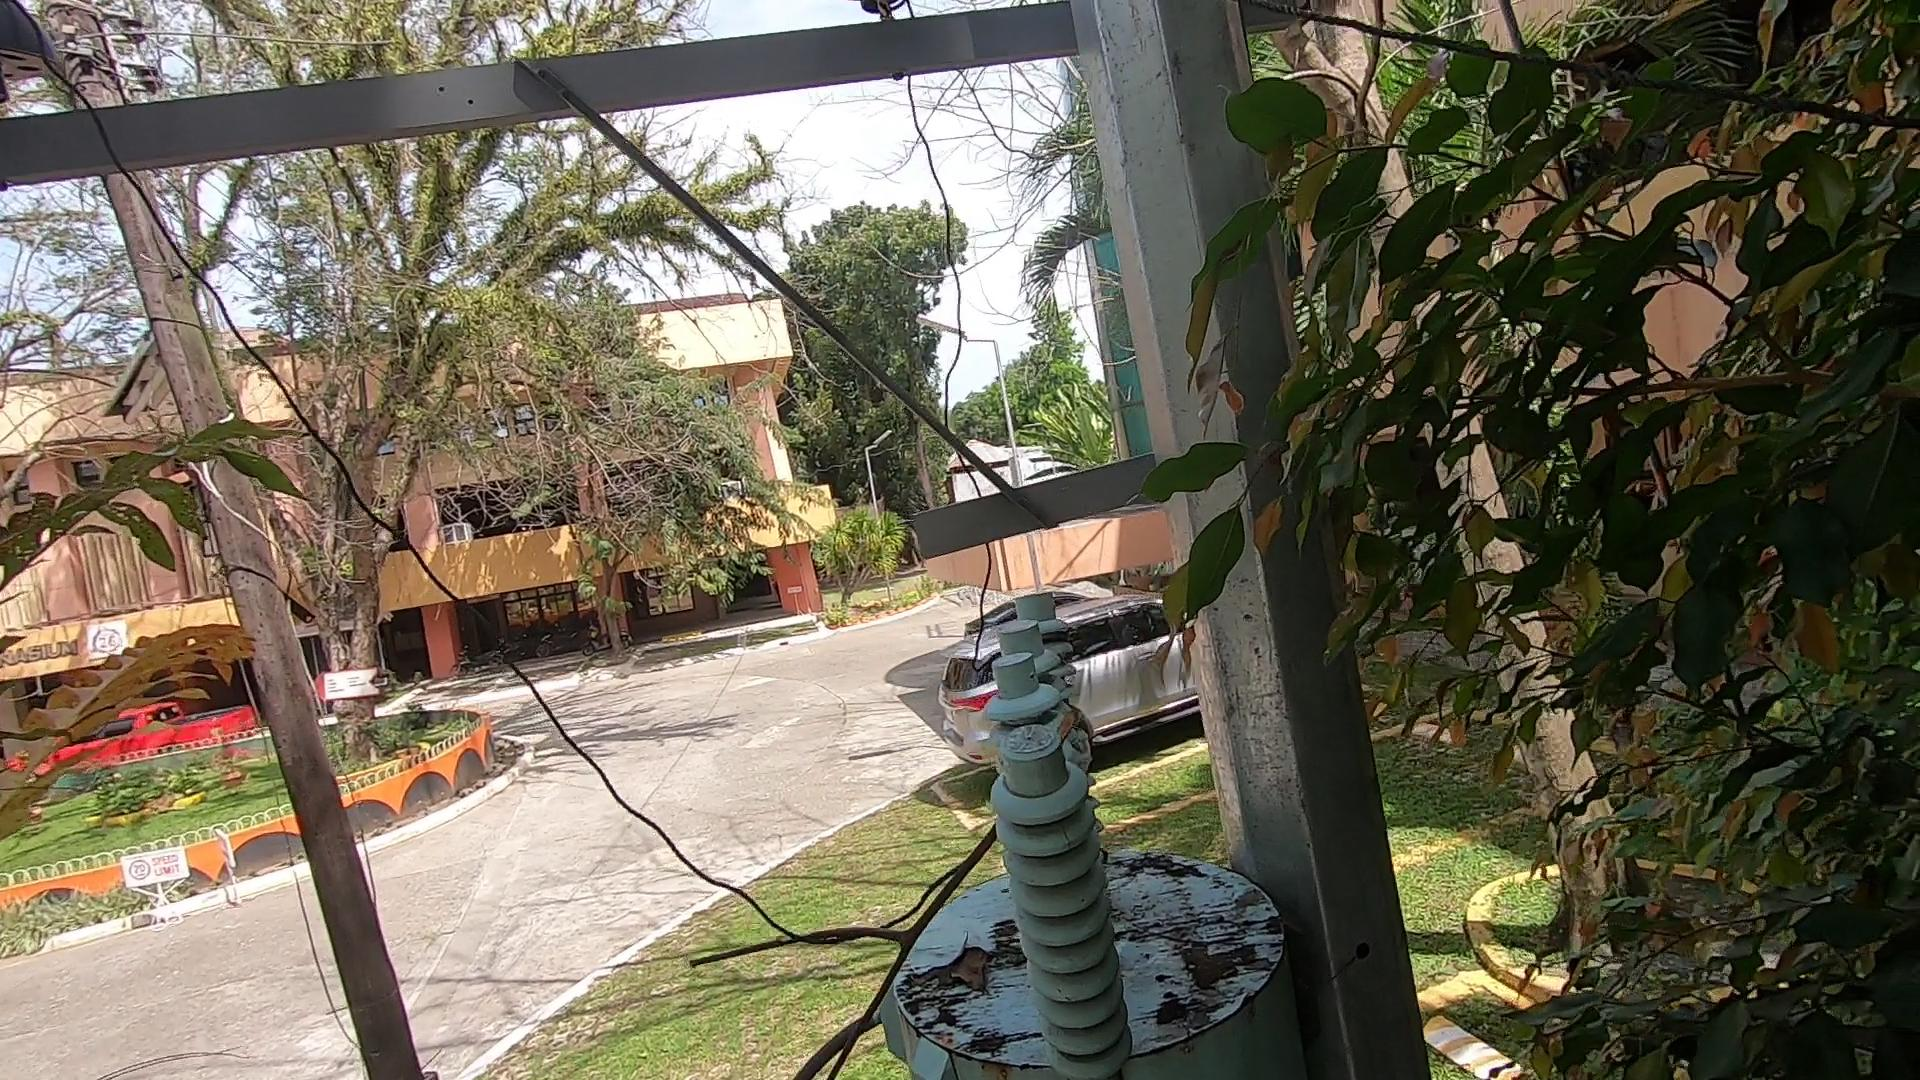leaf: (935, 943, 996, 1002)
tree branch: (683, 731, 1138, 1080)
